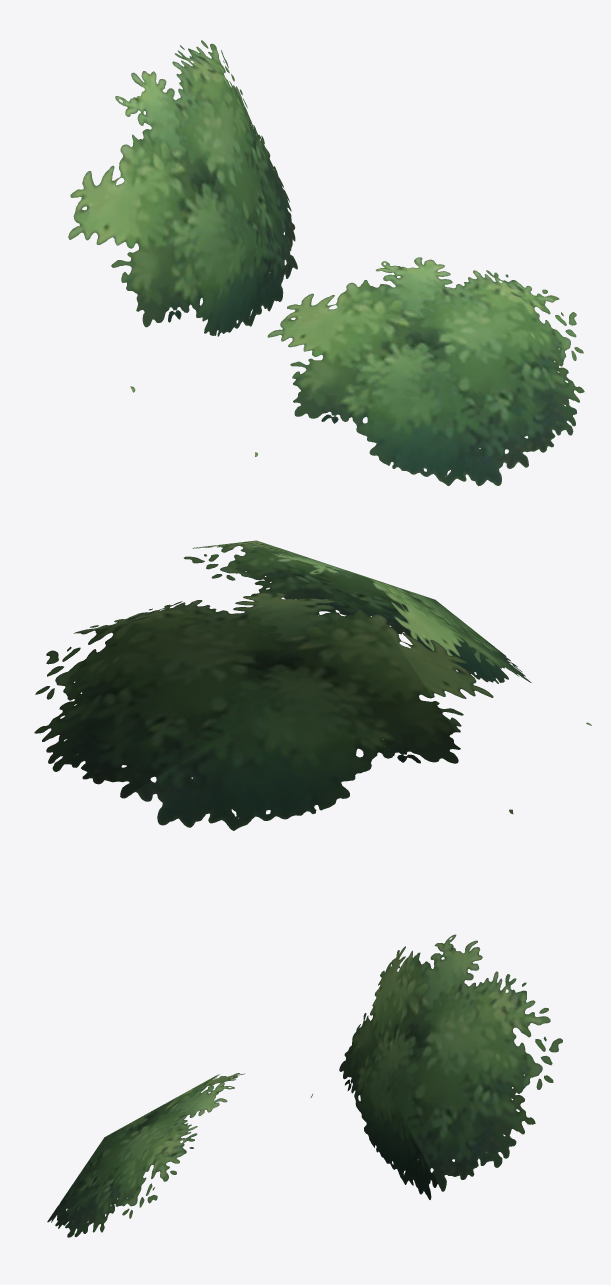
File: shuye_05.FBX
3 renders of one model, top to bottom at view 1: azimuth 30°, elevation 25°; view 2: azimuth 150°, elevation 25°; view 3: azimuth 270°, elevation 25°, orthographic. The views are drawn at different scales.
Parts seen in each view (by area): view 1: shuye_05; view 2: shuye_05; view 3: shuye_05.
Part boxes in pixels (left/top/right/bottom): shuye_05: left=68, top=40, right=584, bottom=486; shuye_05: left=34, top=540, right=591, bottom=830; shuye_05: left=47, top=934, right=562, bottom=1237.
Size of the model in its own units: 229 by 150 by 305.
